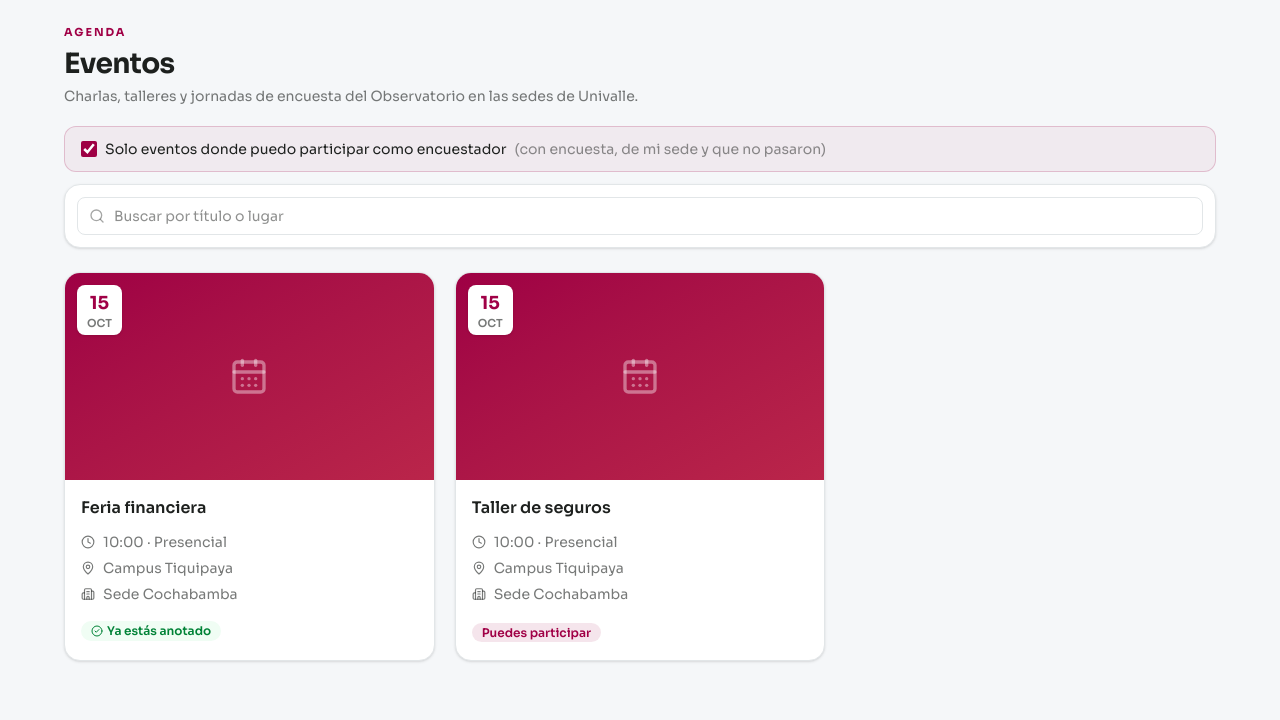
Test: EventosPage (agenda) › el encuestador ve por defecto solo los eventos donde puede participar, con su estado
Expected: the text "Ya estás anotado" is shown, [81,621,221,641]
Expected: the text "Puedes participar" is shown, [472,623,601,642]
Click the checkbox labelled "Solo eventos donde puedo participar" at (89, 149), box [81,141,97,157]
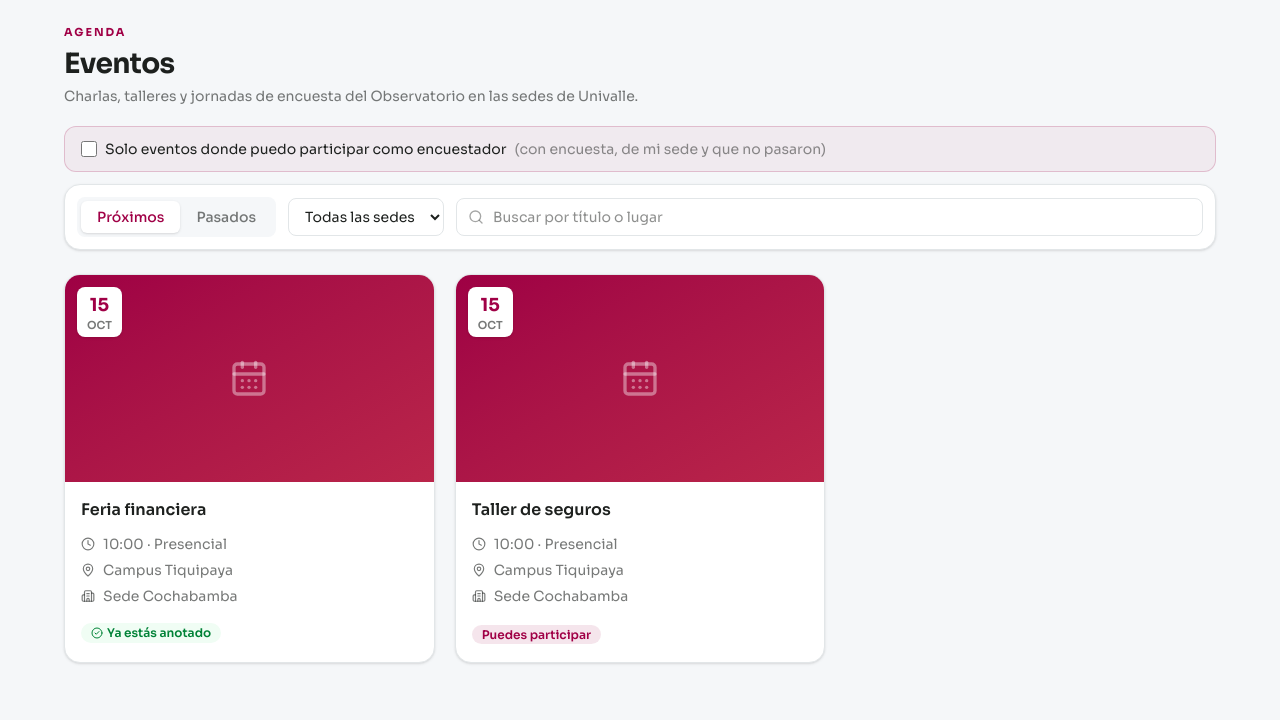
Expected: the tab "Pasados" is shown, [180,201,272,233]
